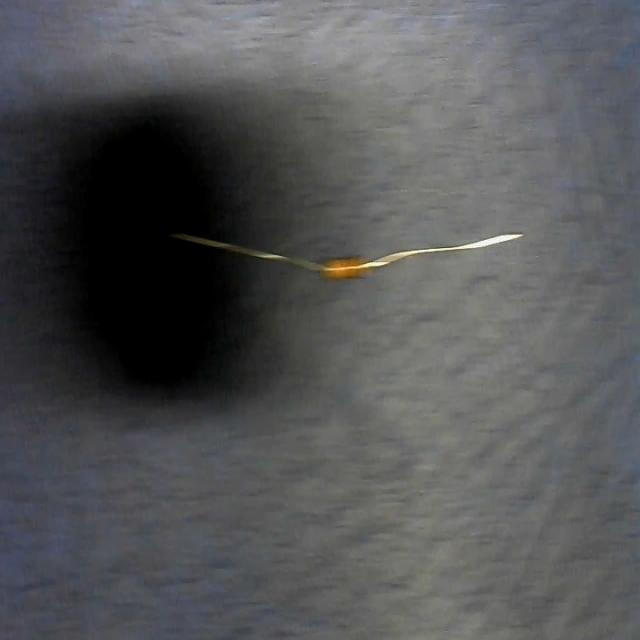resistor: (170, 229, 526, 296)
